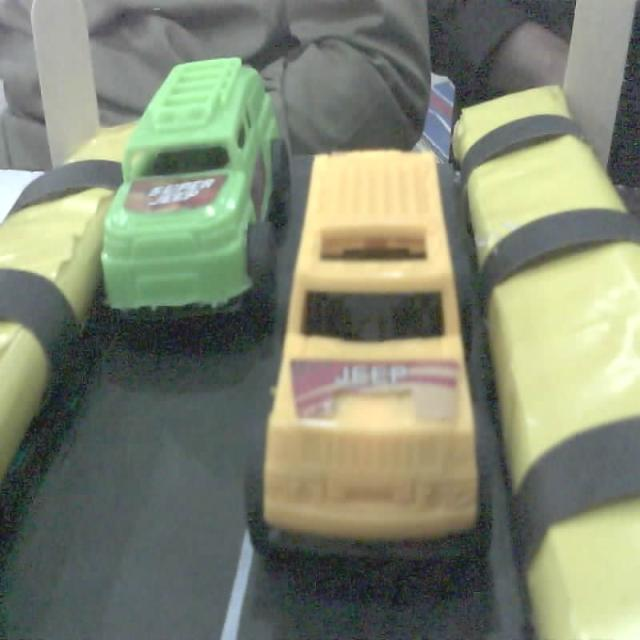TwoCar: (239, 126, 496, 587), (96, 56, 294, 343)
